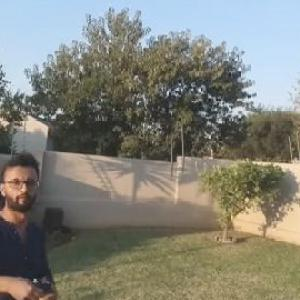follow: (0, 152, 62, 299)
